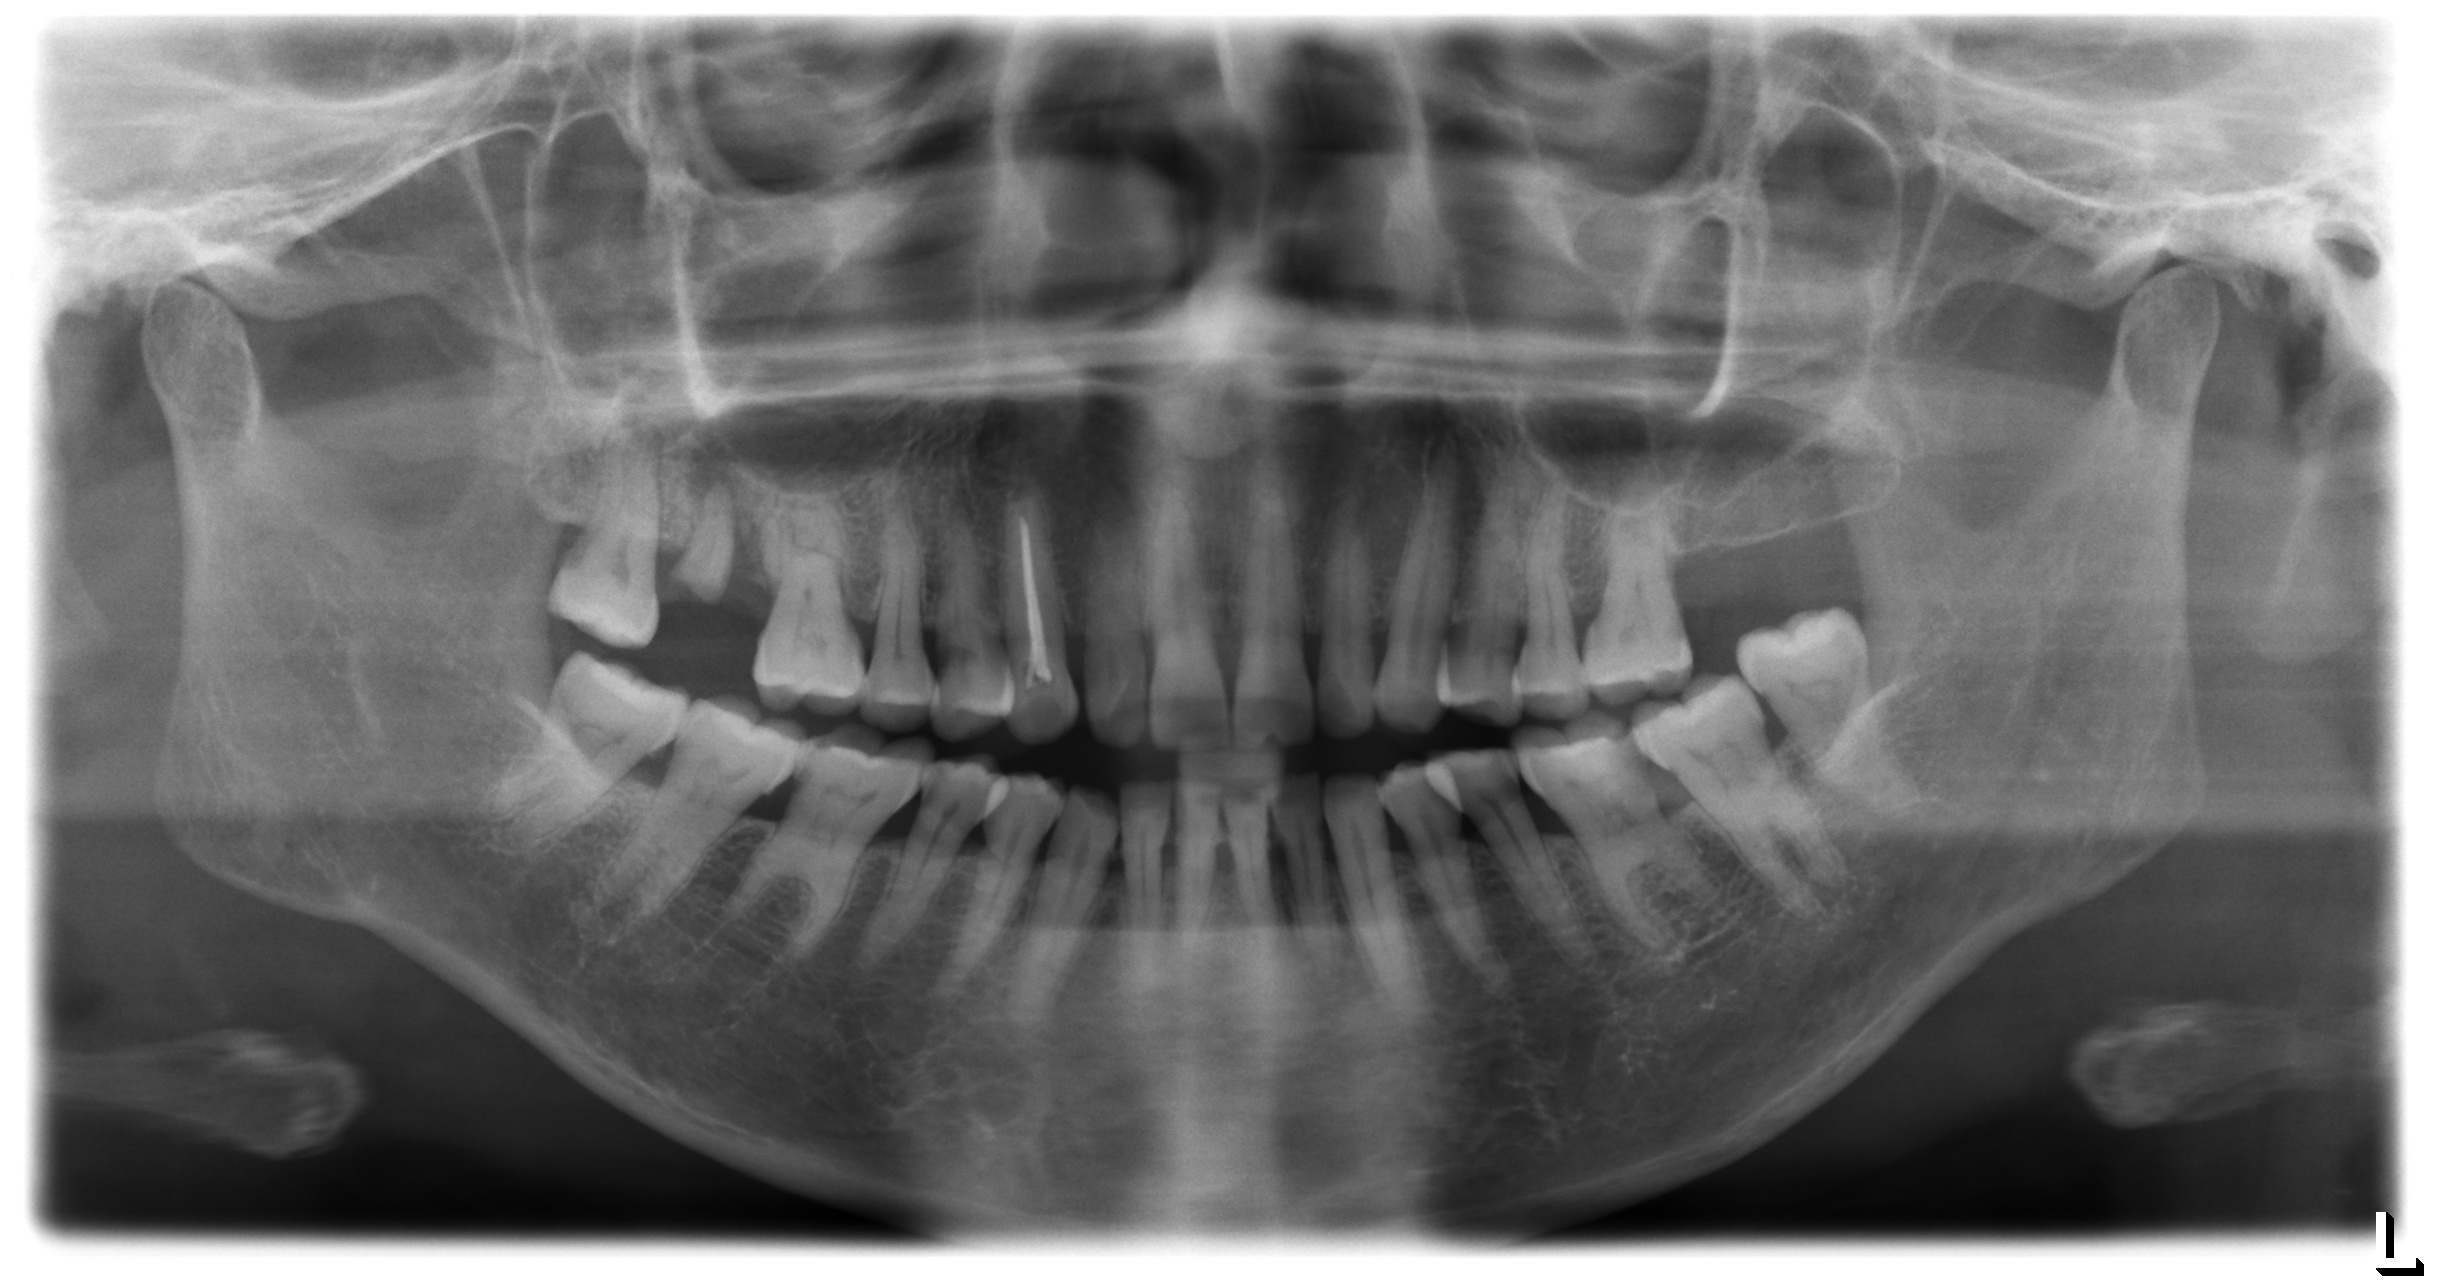Decay: (666, 466, 749, 609), (1593, 718, 1661, 802)
